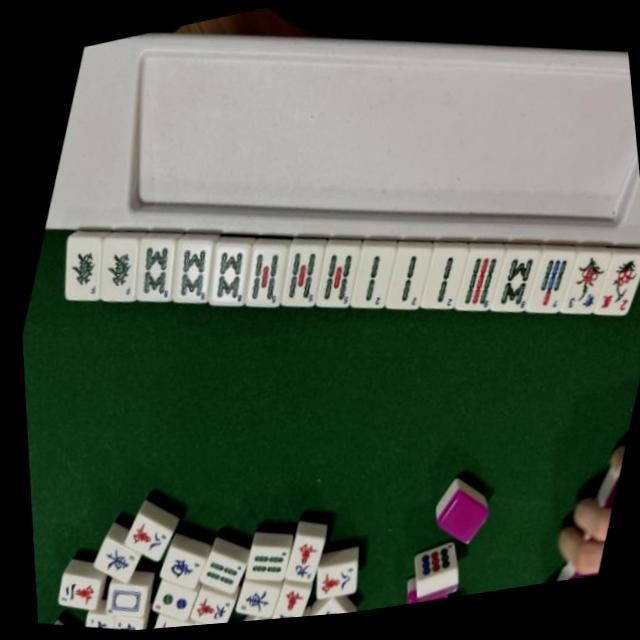bf3: (555, 258, 608, 327)
bs2: (591, 261, 640, 330)
hdg: (53, 234, 105, 297), (89, 234, 140, 297)
sb2: (381, 250, 430, 316), (345, 250, 394, 315), (416, 253, 465, 318)
sb5: (236, 243, 288, 311), (273, 244, 325, 311), (308, 247, 360, 314)
sb7: (522, 258, 572, 324)
sb8: (199, 240, 254, 307), (163, 236, 217, 304), (126, 233, 180, 300), (485, 256, 537, 324)
sb9: (449, 254, 502, 322)
